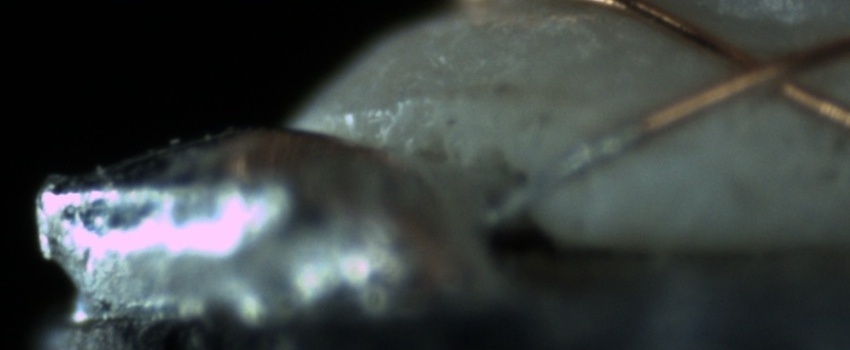CL: (699, 29, 834, 112)
TS: (484, 122, 642, 231)
